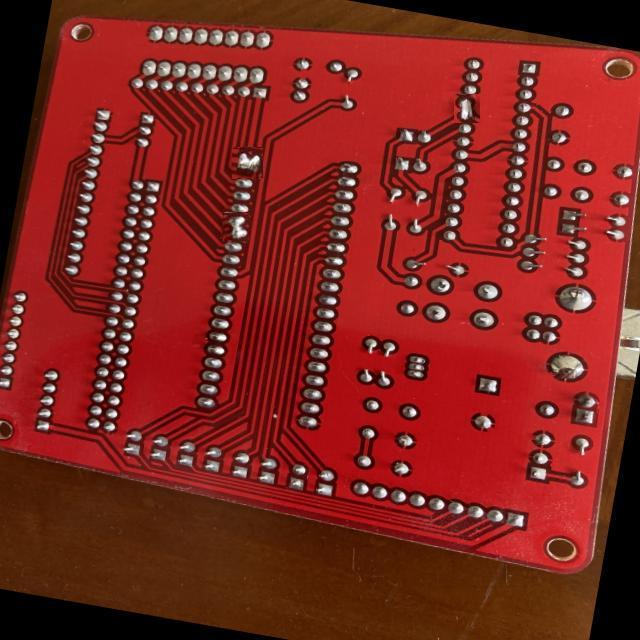damged: (231, 148, 263, 178), (222, 212, 249, 242), (454, 94, 480, 123)
